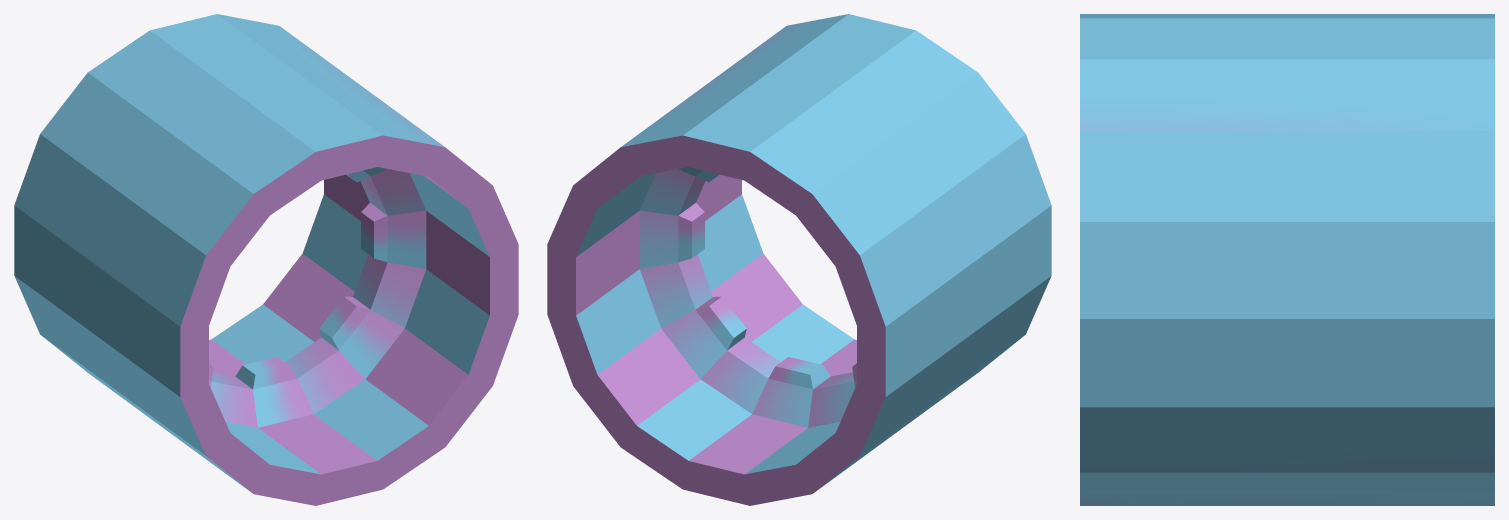
File: Tonnel_Full_Wall.fbx
The picture shows the model from 3 angles, left to right: view 1: azimuth 30°, elevation 25°; view 2: azimuth 150°, elevation 25°; view 3: azimuth 270°, elevation 25°; orthographic projection. The views are drawn at different scales.
Parts seen in each view (by area): view 1: Tonnel_Full_Wall; view 2: Tonnel_Full_Wall; view 3: Tonnel_Full_Wall.
Part boxes in pixels (left/top/right/bottom): Tonnel_Full_Wall: left=14, top=14, right=518, bottom=505; Tonnel_Full_Wall: left=547, top=14, right=1051, bottom=505; Tonnel_Full_Wall: left=1080, top=14, right=1494, bottom=505.
Size of the model in its own units: 2354 by 2354 by 2000.
Materials: 1 (1 with a texture image).
